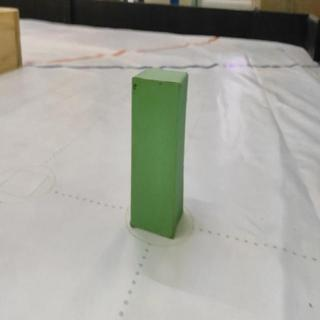greenbox: (127, 65, 189, 240)
